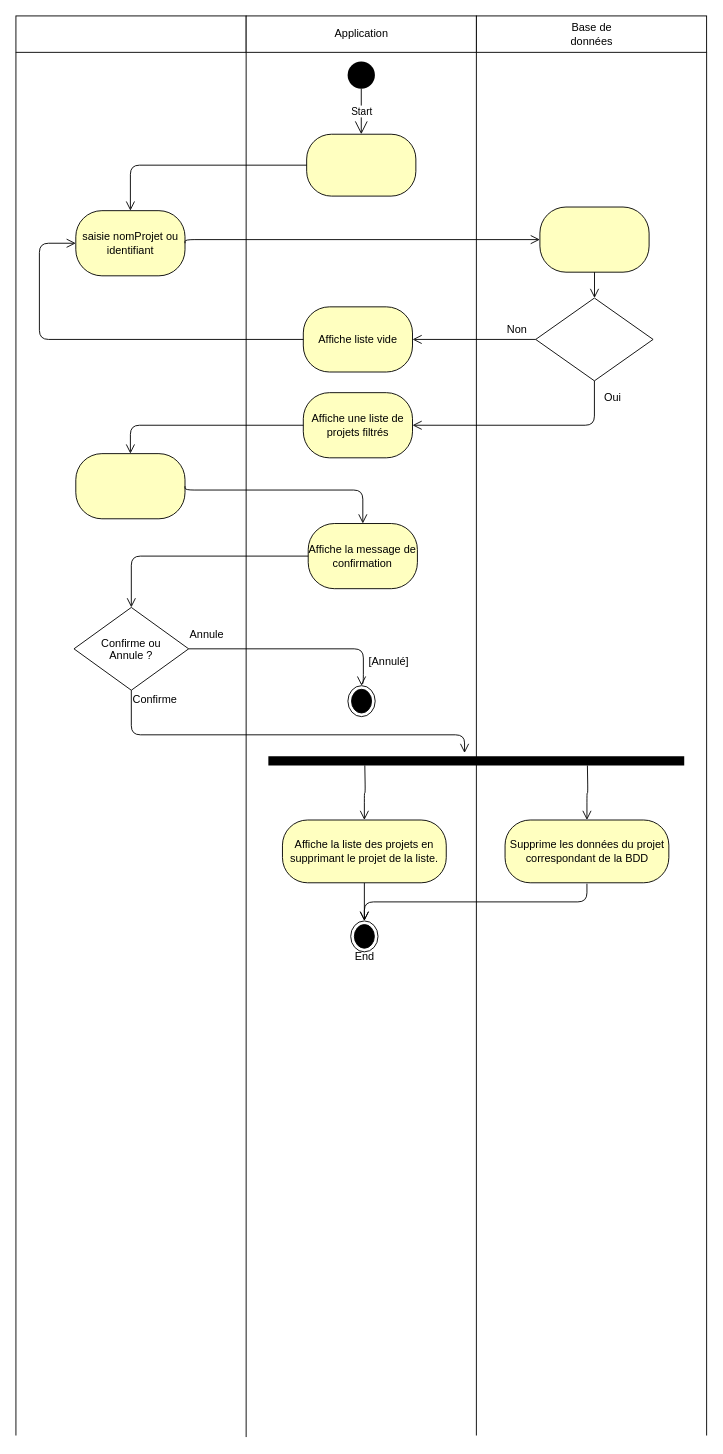
Image size: 723x1454. Some labels were removed from this diagram. The box of each missing label's shape, as (x1, y1, x2, y2) in pixels:
Affiche la liste des projets, avec champ recherche et retour accueil: (306, 133, 416, 196)
Clique le bouton "Supprimer" correspondant à la ligne projet: (75, 453, 185, 519)
Données à transmettre ?: (535, 297, 653, 381)
Recherche les données: (539, 206, 649, 272)
Utilisateur: (15, 15, 246, 52)
